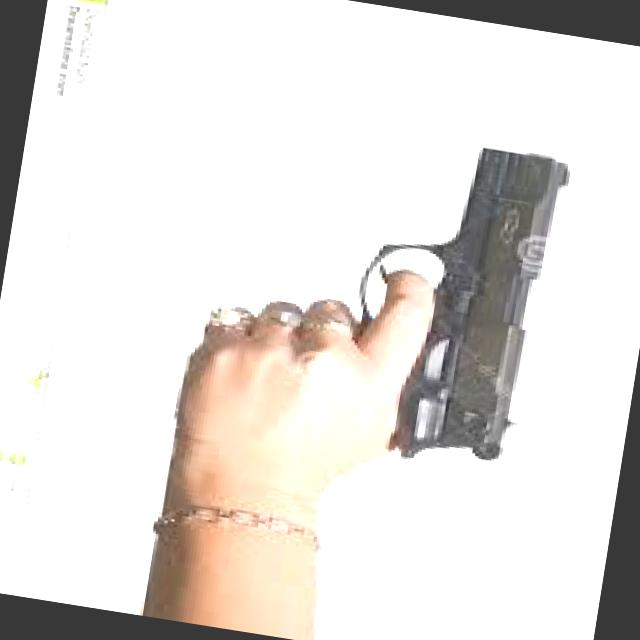handgun: (168, 100, 602, 488)
